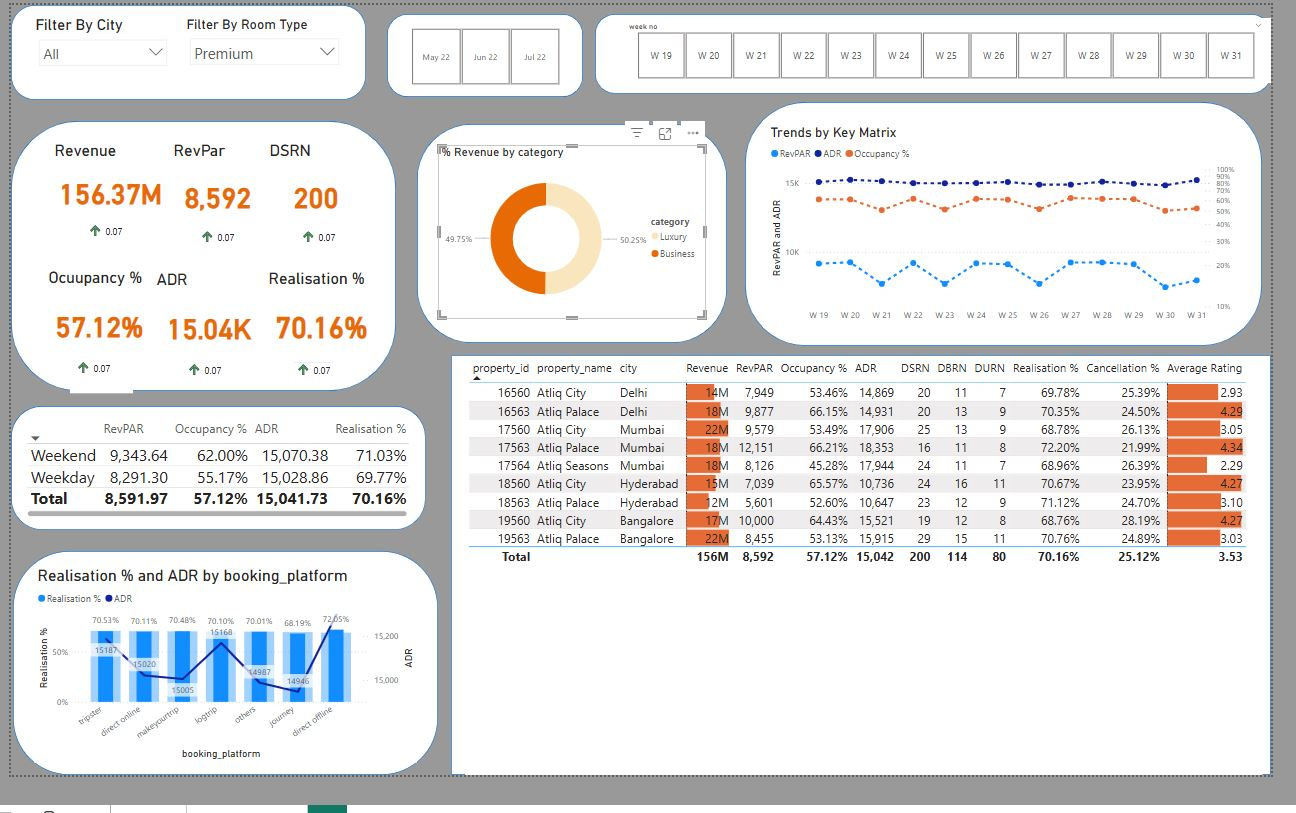

Layout of this report page (visuals, bound fields, positions):
{"tool":"powerbi","page":{"name":"Page 1","canvas":[1800,1100],"ordinal":0},"visuals":[{"type":"tableEx","fields":{"Values":["key_measures.Revenue WoW change %"]},"box":[85.7,461.4,80,61.4],"z":0},{"type":"tableEx","fields":{"Values":["key_measures.Revenue WoW change %"]},"box":[94.3,280,114.3,64.3],"z":1000},{"type":"shape","box":[628.6,500,1171.4,600],"z":2000},{"type":"shape","box":[1048.6,138.6,738.6,348.6],"z":3000},{"type":"shape","box":[580,170,442.9,312.9],"z":4000},{"type":"shape","box":[537.1,12.9,280,118.6],"z":5000},{"type":"shape","box":[834.3,12.9,965.7,114.3],"z":6000},{"type":"shape","box":[2.9,780,607.1,320],"z":7000},{"type":"shape","box":[0,572.9,592.9,177.1],"z":8000},{"type":"tableEx","fields":{"Values":["key_measures.Revenue WoW change %"]},"box":[91.4,461.4,78.6,75.7],"z":9000},{"type":"tableEx","fields":{"Values":["key_measures.Revenue WoW change %"]},"box":[105.7,312.9,90,81.4],"z":10000},{"type":"tableEx","fields":{"Values":["key_measures.Revenue WoW change %"]},"box":[111.4,278.6,80,68.6],"z":11000},{"type":"tableEx","fields":{"Values":["key_measures.Revenue WoW change %"]},"box":[90,461.4,80,78.6],"z":12000},{"type":"shape","box":[0,165.7,550,385.7],"z":13000},{"type":"shape","box":[0,0,507.1,135.7],"z":14000},{"type":"tableEx","fields":{"Values":["key_measures.Revenue WoW change %"]},"box":[242.9,478.6,80,57.1],"z":15000},{"type":"tableEx","fields":{"Values":["key_measures.Revenue WoW change %"]},"box":[344.3,378.6,80,68.6],"z":16000},{"type":"tableEx","fields":{"Values":["key_measures.Revenue WoW change %"]},"box":[264.3,447.1,80,68.6],"z":17000},{"type":"tableEx","fields":{"Values":["key_measures.Revenue WoW change %"]},"box":[398.6,478.6,90,61.4],"z":18000},{"type":"tableEx","fields":{"Values":["dim_hotels.property_id","dim_hotels.property_name","dim_hotels.city","key_measures.Revenue","key_measures.RevPAR","key_measures.Occupancy %","key_measures.ADR","key_measures.DSRN","key_measures.DBRN","key_measures.DURN","key_measures.Realisation %","key_measures.Cancellation %"]},"box":[648.6,501.4,1138.6,598.6],"z":19000},{"type":"slicer","title":"Filter By City","fields":{"Values":["dim_hotels.city"]},"box":[30,15.7,202.9,104.3],"z":20000},{"type":"slicer","title":"Filter By Room Type","fields":{"Values":["dim_rooms.room_class"]},"box":[245.7,15.7,232.9,104.3],"z":21000},{"type":"slicer","fields":{"Values":["dim_date.mmm yy"]},"box":[547.1,27.1,260,92.9],"z":22000},{"type":"slicer","fields":{"Values":["dim_date.week no"]},"box":[870,18.6,930,92.9],"z":23000},{"type":"donutChart","title":"% Revenue by category","fields":{"Category":["dim_hotels.category"],"Y":["key_measures.Occupancy %"]},"box":[610,200,382.9,248.6],"z":24000},{"type":"card","title":"ADR","fields":{"Values":["key_measures.ADR"]},"box":[202.9,378.6,160,134.3],"z":25000},{"type":"card","title":"Realisation %","fields":{"Values":["key_measures.Realisation %"]},"box":[362.9,377.1,161.4,134.3],"z":26000},{"type":"lineChart","title":"Trends by Key Matrix","fields":{"Category":["dim_date.mmm yy.Variation.Date Hierarchy.Month","dim_date.week no"],"Y":["key_measures.RevPAR","key_measures.ADR"],"Y2":["key_measures.Occupancy %"]},"box":[1080,170,677.1,291.4],"z":27000},{"type":"lineStackedColumnComboChart","fields":{"Category":["fact_bookings.booking_platform"],"Y":["key_measures.Realisation %"],"Y2":["key_measures.ADR"]},"box":[32.9,801.4,547.1,281.4],"z":28000},{"type":"tableEx","fields":{"Values":["key_measures.Revenue WoW change %"]},"box":[405.7,288.6,90,58.6],"z":29000},{"type":"tableEx","fields":{"Values":["dim_date.day type","key_measures.RevPAR","key_measures.Occupancy %","key_measures.ADR","key_measures.Realisation %"]},"box":[17.1,587.1,555.7,148.6],"z":30000},{"type":"tableEx","fields":{"Values":["key_measures.Revenue WoW change %"]},"box":[261.4,288.6,90,78.6],"z":31000},{"type":"card","title":"DSRN","fields":{"Values":["key_measures.DSRN"]},"box":[364.3,194.3,142.9,128.6],"z":32000},{"type":"card","title":"RevPar ","fields":{"Values":["key_measures.RevPAR"]},"box":[227.1,194.3,137.1,128.6],"z":33000},{"type":"tableEx","fields":{"Values":["key_measures.Revenue WoW change %"]},"box":[101.4,280,90,78.6],"z":34000},{"type":"card","title":"Revenue","fields":{"Values":["key_measures.Revenue"]},"box":[57.1,194.3,170,118.6],"z":35000},{"type":"tableEx","fields":{"Values":["key_measures.Revenue WoW change %"]},"box":[84.3,475.7,90,78.6],"z":36000},{"type":"card","title":"Ocuupancy %","fields":{"Values":["key_measures.Occupancy %"]},"box":[48.6,375.7,154.3,134.3],"z":37000}]}

Visuals, with their boxes in screenshot pixels (x1, y1, x2, y2), scaled from the page's 1800x1100 canvas onto the 1296x813 screenshot:
tableEx - key_measures.Revenue WoW change %: [62, 341, 119, 386]
tableEx - key_measures.Revenue WoW change %: [68, 207, 150, 254]
shape: [453, 370, 1295, 812]
shape: [755, 102, 1287, 360]
shape: [418, 126, 736, 357]
shape: [387, 10, 588, 97]
shape: [601, 10, 1295, 94]
shape: [2, 576, 439, 812]
shape: [0, 423, 427, 554]
tableEx - key_measures.Revenue WoW change %: [66, 341, 122, 397]
tableEx - key_measures.Revenue WoW change %: [76, 231, 141, 291]
tableEx - key_measures.Revenue WoW change %: [80, 206, 138, 257]
tableEx - key_measures.Revenue WoW change %: [65, 341, 122, 399]
shape: [0, 122, 396, 408]
shape: [0, 0, 365, 100]
tableEx - key_measures.Revenue WoW change %: [175, 354, 232, 396]
tableEx - key_measures.Revenue WoW change %: [248, 280, 305, 331]
tableEx - key_measures.Revenue WoW change %: [190, 330, 248, 381]
tableEx - key_measures.Revenue WoW change %: [287, 354, 352, 399]
tableEx - dim_hotels.property_id x dim_hotels.property_name: [467, 371, 1287, 812]
"Filter By City" slicer: [22, 12, 168, 89]
"Filter By Room Type" slicer: [177, 12, 345, 89]
slicer - dim_date.mmm yy: [394, 20, 581, 89]
slicer - dim_date.week no: [626, 14, 1295, 82]
"% Revenue by category" donutChart: [439, 148, 715, 332]
"ADR" card: [146, 280, 261, 379]
"Realisation %" card: [261, 279, 377, 378]
"Trends by Key Matrix" lineChart: [778, 126, 1265, 341]
lineStackedColumnComboChart - fact_bookings.booking_platform x key_measures.Realisation %: [24, 592, 418, 800]
tableEx - key_measures.Revenue WoW change %: [292, 213, 357, 257]
tableEx - dim_date.day type x key_measures.RevPAR: [12, 434, 412, 544]
tableEx - key_measures.Revenue WoW change %: [188, 213, 253, 271]
"DSRN" card: [262, 144, 365, 239]
"RevPar " card: [164, 144, 262, 239]
tableEx - key_measures.Revenue WoW change %: [73, 207, 138, 265]
"Revenue" card: [41, 144, 164, 231]
tableEx - key_measures.Revenue WoW change %: [61, 352, 125, 410]
"Ocuupancy %" card: [35, 278, 146, 377]
